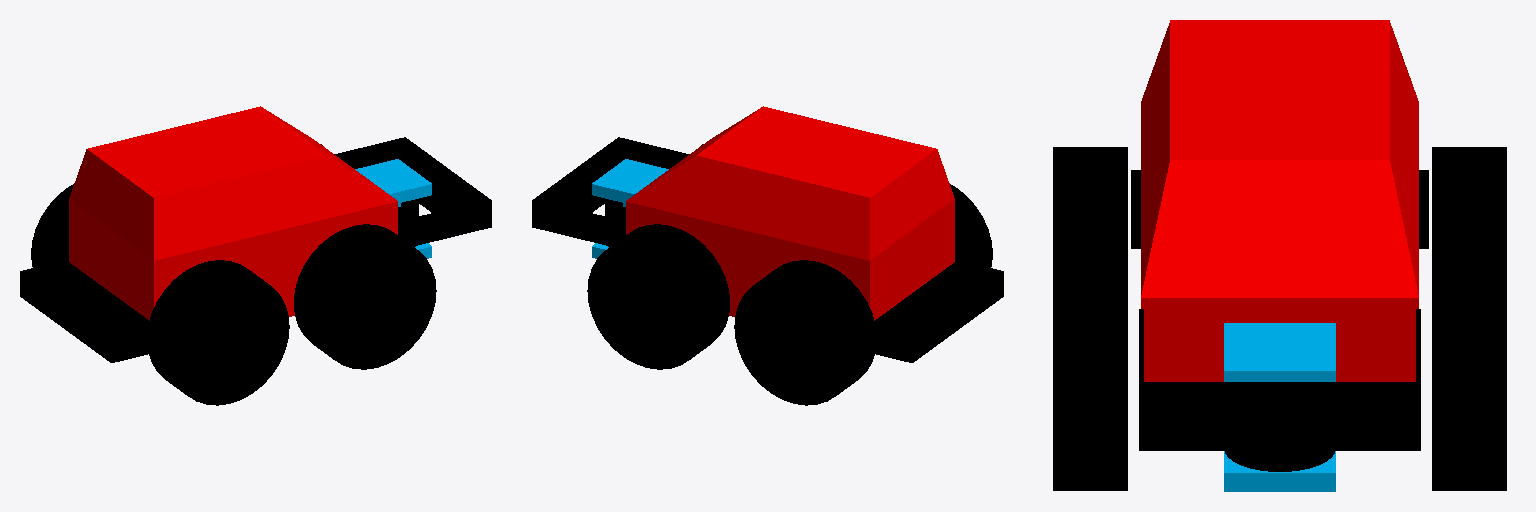
robot.urdf — Junior:
<?xml version="1.0"?>
<!-- Chassis Width: 0.387m -->
<!-- Chassis Length: 0.642m -->
<!-- Chassis Height: 0.224m -->
<!-- Wheel Diameter: 0.315m -->
<!-- Wheel Width: 0.105m -->
<!-- Wheel to Body: 0.125m -->
<!-- Axle Distance: 0.386m -->
<!-- Calculation 1: 0.1185m (0.237 / 2) -->
<!-- Calculation 2: 0.193m (0.386 / 2) -->
<!-- Calculation 3: 0.2635m (0.387 / 2 + 0.07) -->

<!-- Front Lidar Width: 0.155m -->
<!-- Front Lidar Length: 0.155m -->
<!-- Front Lidar Height: 0.185m -->
<robot name="Junior">
    <material name="black">
        <color rgba="0 0 0 1"/>
    </material>
    
    <material name="red">
        <color rgba="1 0 0 1"/>
    </material>

    <material name="skyblue">
        <color rgba="0.0 0.75 1.0 1.0"/>
    </material>

    <!-- Base Link -->
    <link name="base_link">
        
    </link>

    <!-- Chassis Link -->
    <link name="Chassis">
        <visual>
            <geometry>
                <mesh filename="package://junior_description/meshes/robitChassis.stl"/>
            </geometry>
            <material name="red"/>
        </visual>
    </link>

    <!-- Front Bumper Link -->
    <link name="FrontBumper">
        <visual>
            <geometry>
                <mesh filename="package://junior_description/meshes/robitFrontBumper.stl"/>
            </geometry>
            <material name="black"/>
        </visual>
    </link>


    <!-- Back Bumper Link -->
    <link name="BackBumper">
        <visual>
            <geometry>
                <mesh filename="package://junior_description/meshes/robitBackBumper.stl"/>
            </geometry>
            <material name="black"/>
        </visual>
    </link>


    <!-- Front Lidar Link -->
    <link name="FrontLidar">
        <visual>
            <geometry>
                <mesh filename="package://junior_description/meshes/robitFrontLidarCase.stl"/>
            </geometry>
            <material name="skyblue"/>
        </visual>
    </link>

    <!-- Front Lidar Glass Link -->
    <link name="FrontLidarGlass">
        <visual>
            <geometry>
                <mesh filename="package://junior_description/meshes/robitFrontLidarGlass.stl"/>
            </geometry>
            <material name="black"/>
        </visual>
    </link>

    <!-- Left Front Link -->
    <link name="WheelLeftFront">
        <visual>
            <geometry>
                <mesh filename="package://junior_description/meshes/robitWheel.stl"/>
            </geometry>
            <material name="black"/>
        </visual>
    </link>

    <!-- Right Front Link -->
    <link name="WheelRightFront">
        <visual>
            <geometry>
                <mesh filename="package://junior_description/meshes/robitWheel.stl"/>
            </geometry>
            <material name="black"/>
        </visual>
    </link>

    <!-- Left Back Link -->
    <link name="WheelLeftBack">
        <visual>
            <geometry>
                <mesh filename="package://junior_description/meshes/robitWheel.stl"/>
            </geometry>
            <material name="black"/>
        </visual>
    </link>

    <!-- Right Back Link -->
    <link name="WheelRightBack">
        <visual>
            <geometry>
                <mesh filename="package://junior_description/meshes/robitWheel.stl"/>
            </geometry>
            <material name="black"/>
        </visual>
    </link>



    <!-- START OF JOINTS -->
    <joint name="ChassisJoint" type="fixed">
        <parent link="base_link"/>
        <child link="Chassis"/>
        <origin xyz="1 0 0.23"/>
    </joint>

    <joint name="FrontLidarHolster" type="fixed">
        <parent link="Chassis"/>
        <child link="FrontLidar"/>
        <origin xyz="0.321 0 -0.0197"/> 
    </joint>

    <joint name="FrontLidarVision" type="fixed">
        <parent link="FrontLidar"/>
        <child link="FrontLidarGlass"/>
        <origin xyz="0.075 0 0"/> 
    </joint>

    <joint name="AxleLeftFront" type="continuous">
        <parent link="Chassis"/>
        <child link="WheelLeftFront"/>
        <origin xyz="0.193 0.2635 -0.07" rpy="0 0 0"/>
        <axis xyz="0 1 0"/>
    </joint>
    
    <joint name="AxleRightFront" type="continuous">
        <parent link="Chassis"/>
        <child link="WheelRightFront"/>
        <origin xyz="0.193 -0.2635 -0.07" rpy="0 0 0"/>
        <axis xyz="0 1 0"/>
    </joint>

    <joint name="AxleLeftBack" type="continuous">
        <parent link="Chassis"/>
        <child link="WheelLeftBack"/>
        <origin xyz="-0.193 0.2635 -0.07" rpy="0 0 0"/>
        <axis xyz="0 1 0"/>
    </joint>

    <joint name="AxleRightBack" type="continuous">
        <parent link="Chassis"/>
        <child link="WheelRightBack"/>
        <origin xyz="-0.193 -0.2635 -0.07" rpy="0 0 0"/>
        <axis xyz="0 1 0"/>
    </joint>

    <joint name="FrontBumperLoc" type="fixed">
        <parent link="Chassis"/>
        <child link="FrontBumper"/>
        <origin xyz="0.321 0 0.025" rpy="0 0 0"/>
    </joint>

    <joint name="BackBumperLoc" type="fixed">
        <parent link="Chassis"/>
        <child link="BackBumper"/>
        <origin xyz="-0.321 0 -0.0795" rpy="0 0 0"/>
    </joint>
    <!-- END OF JOINTS -->

    <!-- Back bumper offset, required z amount to be at bottom of chassis and length / 2 for x-->





    <!-- Experimentation with Moving Parts ex. Lidars, Wheels

    <gazebo reference="FrontLidarGlass">
        <sensor name="laser" type="ray">
            <pose> 0 0 0 0 0 0 </pose>
            <visualize>true</visualize>
            <update_rate>10</update_rate>
            <ray>
                <scan>
                    <horizontal>
                    <samples>270</samples>
                    <min_angle>-2.35</min_angle>
                    <max_angle>2.35</max_angle>
                    </horizontal>
                </scan>
                <range>
                    Range Unknown as of Now, Using Default Values 
                    <min>0.3</min>
                    <max>12</max>
                </range>
            </ray>
            <plugin name="fl_controller" filename="libgazebo_ros_ray_sensor.so">
                <ros>
                    Fill in ROS descriptors here
                </ros>
                <output_type>sensor_msgs/LaserScan</output_type>
                <frame_name>FrontLidarGlass</frame_name>
            </plugin>
        </sensor>
    </gazebo> -->
</robot>

--- Facts derived from the render (not from the file) ---
Views: 3 orthographic renders of the robot side by side, from view 1: azimuth 30°, elevation 25°; view 2: azimuth 150°, elevation 25°; view 3: azimuth 270°, elevation 25°.
Robot: Junior — 10 links, 9 joints (4 continuous, 5 fixed); root link base_link; default pose: all joints at 0.
Links seen in each view (by area): view 1: Chassis, WheelRightBack, WheelRightFront, BackBumper, FrontBumper, WheelLeftBack, FrontLidar; view 2: Chassis, WheelLeftBack, WheelLeftFront, BackBumper, FrontBumper, WheelRightBack, FrontLidar; view 3: Chassis, FrontBumper, WheelLeftFront, WheelRightFront, FrontLidar, WheelLeftBack, WheelRightBack, FrontLidarGlass, BackBumper.
Link boxes in pixels (x1=…): Chassis: x1=69, y1=106, x2=397, y2=320; WheelRightBack: x1=147, y1=260, x2=289, y2=405; WheelRightFront: x1=294, y1=224, x2=436, y2=369; BackBumper: x1=20, y1=260, x2=148, y2=362; FrontBumper: x1=321, y1=137, x2=491, y2=246; WheelLeftBack: x1=31, y1=184, x2=73, y2=267; FrontLidar: x1=355, y1=159, x2=431, y2=258; Chassis: x1=626, y1=106, x2=954, y2=320; WheelLeftBack: x1=734, y1=260, x2=876, y2=405; WheelLeftFront: x1=587, y1=224, x2=729, y2=369; BackBumper: x1=875, y1=260, x2=1003, y2=362; FrontBumper: x1=532, y1=137, x2=702, y2=246; WheelRightBack: x1=950, y1=184, x2=992, y2=267; FrontLidar: x1=592, y1=159, x2=668, y2=258; Chassis: x1=1141, y1=20, x2=1418, y2=381; FrontBumper: x1=1139, y1=309, x2=1420, y2=450; WheelLeftFront: x1=1432, y1=264, x2=1506, y2=490; WheelRightFront: x1=1053, y1=264, x2=1127, y2=490; FrontLidar: x1=1224, y1=323, x2=1335, y2=491; WheelLeftBack: x1=1432, y1=147, x2=1506, y2=263; WheelRightBack: x1=1053, y1=147, x2=1127, y2=263; FrontLidarGlass: x1=1225, y1=451, x2=1334, y2=471; BackBumper: x1=1131, y1=170, x2=1428, y2=248.
Size in the robot's own frame: 1.01 by 0.632 by 0.4761 metres.
9 mesh visuals loaded from 6 distinct referenced files (6 binary STL).
